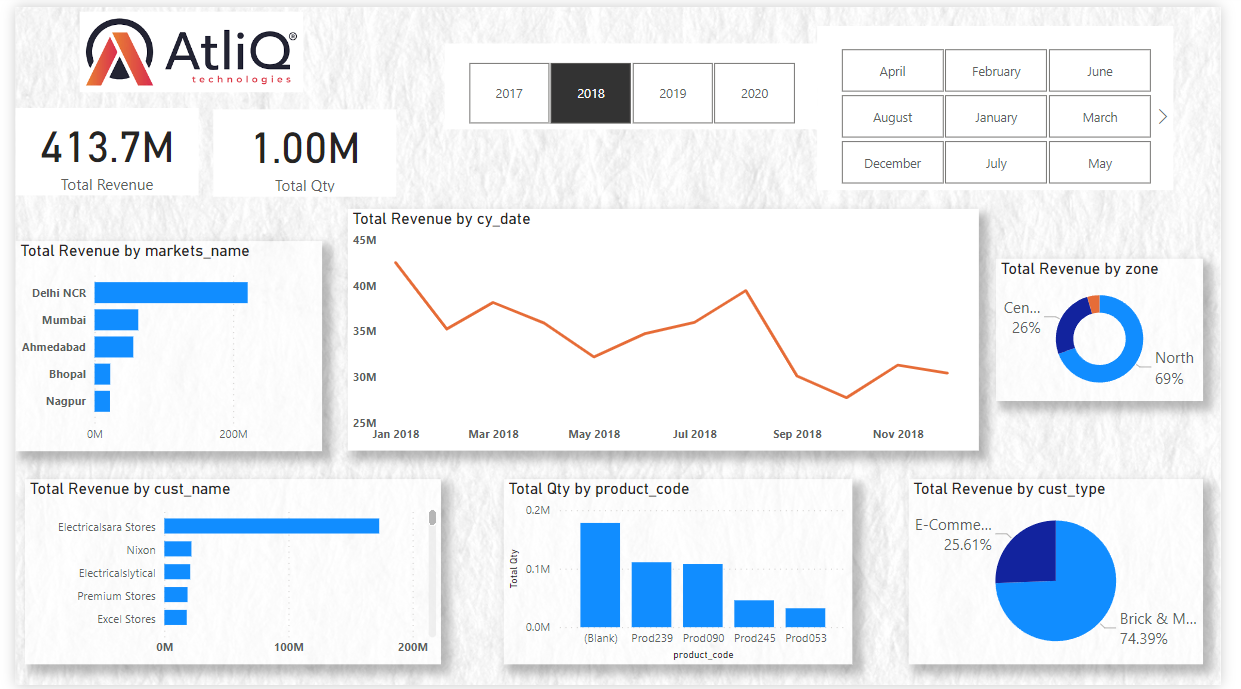

The page's visual inventory and layout, read from the dashboard file:
{"tool":"powerbi","page":{"name":"Page 1","canvas":[1280,720],"ordinal":0},"visuals":[{"type":"card","fields":{"Values":["created_measures.Total Revenue"]},"box":[34.3,61.7,193.5,91.9],"z":0},{"type":"card","fields":{"Values":["created_measures.Total Qty"]},"box":[227.8,61.7,193.5,91.9],"z":1000},{"type":"barChart","fields":{"Category":["public markets.markets_name"],"Y":["created_measures.Total Revenue"]},"box":[0,214.1,387,223.7],"z":2000},{"type":"barChart","fields":{"Category":["public customers.cust_name"],"Y":["created_measures.Total Revenue"]},"box":[9.6,500.9,387,207.2],"z":3000},{"type":"slicer","fields":{"Values":["public date.years"]},"box":[412.5,0,398.8,95],"z":4000},{"type":"pieChart","fields":{"Category":["public customers.cust_type"],"Y":["created_measures.Total Revenue"]},"box":[826.2,540,312.5,158.8],"z":5000},{"type":"donutChart","fields":{"Category":["public markets.zone"],"Y":["created_measures.Total Revenue"]},"box":[172.5,348.8,248.8,152.5],"z":6000},{"type":"slicer","fields":{"Values":["public date.month_name"]},"box":[792.5,0,380,173.8],"z":8000},{"type":"lineChart","fields":{"Y":["created_measures.Total Revenue"],"Category":["public date.cy_date"]},"box":[435,181.2,673.8,256.2],"z":9000},{"type":"lineClusteredColumnComboChart","fields":{"Y":["created_measures.Total Qty"],"Category":["public products.product_code"]},"box":[435,540,353.8,150],"z":9001}]}

Visuals, with their boxes in screenshot pixels (x1, y1, x2, y2), scaled from the page's 1280x720 canvas onto the 1241x689 screenshot:
card - created_measures.Total Revenue: {"left": 33, "top": 59, "right": 221, "bottom": 147}
card - created_measures.Total Qty: {"left": 221, "top": 59, "right": 408, "bottom": 147}
barChart - public markets.markets_name x created_measures.Total Revenue: {"left": 0, "top": 205, "right": 375, "bottom": 419}
barChart - public customers.cust_name x created_measures.Total Revenue: {"left": 9, "top": 479, "right": 385, "bottom": 678}
slicer - public date.years: {"left": 400, "top": 0, "right": 787, "bottom": 91}
pieChart - public customers.cust_type x created_measures.Total Revenue: {"left": 801, "top": 517, "right": 1104, "bottom": 669}
donutChart - public markets.zone x created_measures.Total Revenue: {"left": 167, "top": 334, "right": 408, "bottom": 480}
slicer - public date.month_name: {"left": 768, "top": 0, "right": 1137, "bottom": 166}
lineChart - created_measures.Total Revenue x public date.cy_date: {"left": 422, "top": 173, "right": 1075, "bottom": 419}
lineClusteredColumnComboChart - created_measures.Total Qty x public products.product_code: {"left": 422, "top": 517, "right": 765, "bottom": 660}
